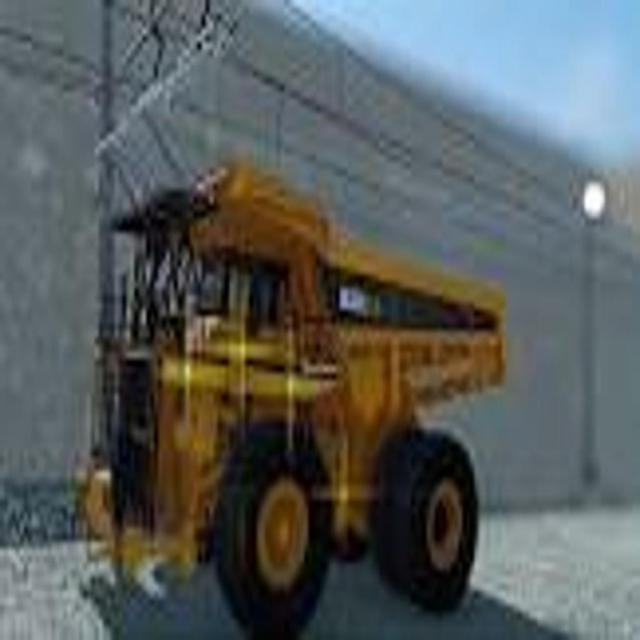dump_truck: (69, 140, 507, 628)
